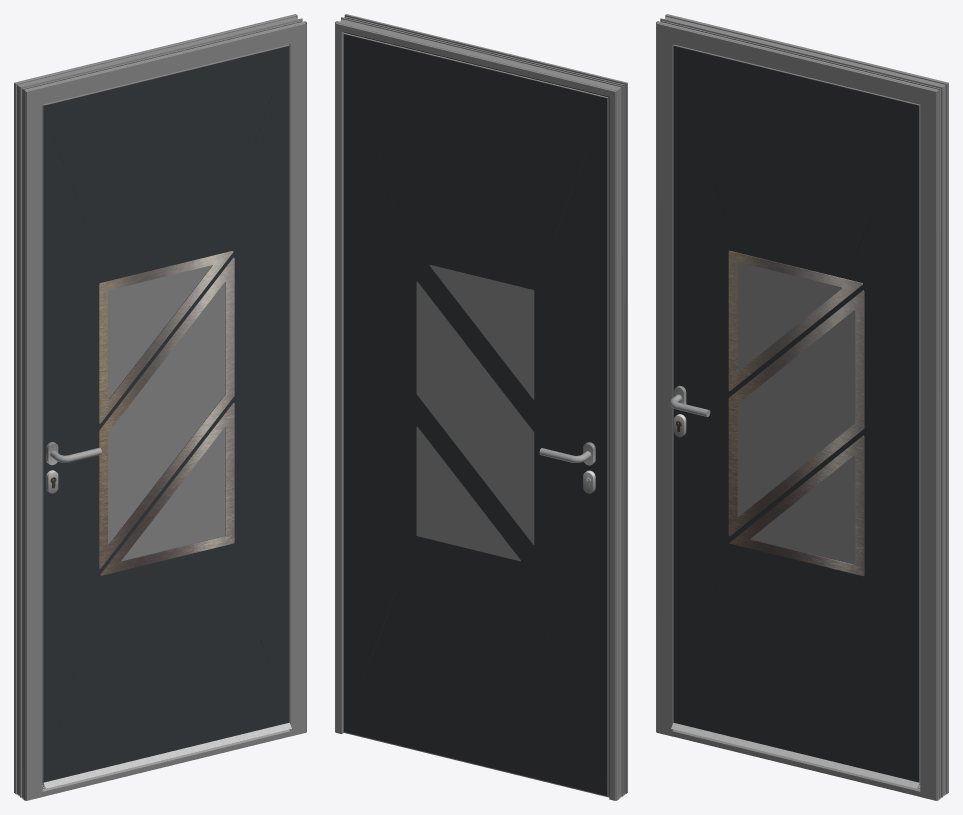
3 views of the same model, side by side, from view 1: azimuth 30°, elevation 25°; view 2: azimuth 150°, elevation 25°; view 3: azimuth 330°, elevation 25° (orthographic).
Parts seen in each view (by area): view 1: bloco_5, aroFixo, Box001, alunox_4, aroMovel, rodapé, escovas, puxador001; view 2: bloco_5, Box002, aroFixo, aroMovel, puxador; view 3: bloco_5, aroFixo, Box001, alunox_4, aroMovel, rodapé, escovas, puxador001.
Boxes of the visible parts, box(x1,y1,x2,y2) form: bloco_5: box(43, 46, 289, 782); aroFixo: box(14, 14, 306, 800); Box001: box(108, 265, 225, 561); alunox_4: box(99, 251, 234, 575); aroMovel: box(42, 44, 289, 784); rodapé: box(42, 729, 290, 796); escovas: box(42, 722, 291, 788); puxador001: box(46, 442, 101, 493); bloco_5: box(344, 34, 607, 795); Box002: box(416, 265, 534, 561); aroFixo: box(335, 14, 627, 800); aroMovel: box(343, 32, 609, 796); puxador: box(539, 442, 595, 493); bloco_5: box(673, 46, 918, 782); aroFixo: box(656, 14, 948, 800); Box001: box(738, 262, 855, 564); alunox_4: box(728, 250, 864, 576); aroMovel: box(673, 44, 920, 784); rodapé: box(672, 729, 920, 796); escovas: box(671, 722, 920, 788); puxador001: box(669, 385, 710, 437).
Size of the model in its own units: 900 by 2165 by 209.
10 materials, 5 textured.
